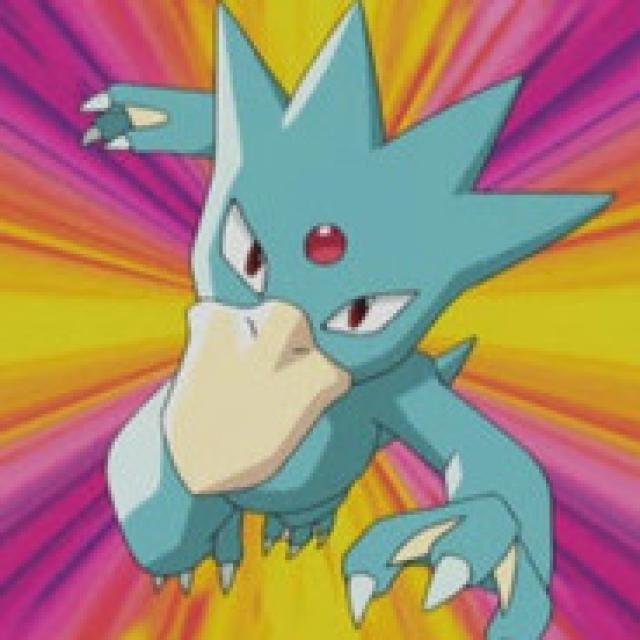Golduck: (106, 8, 566, 640)
